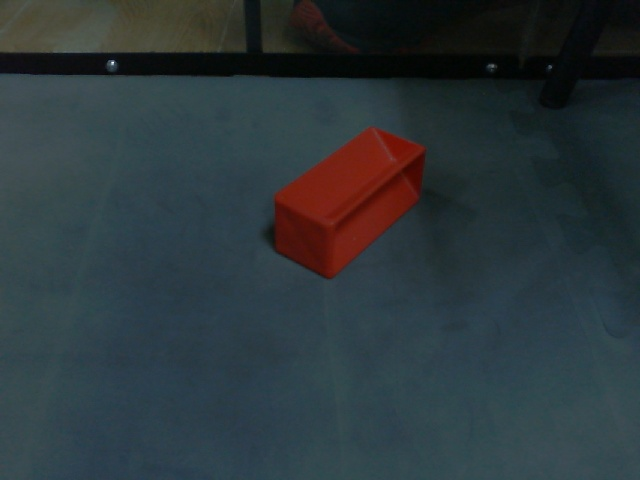RedSample: (271, 123, 428, 281)
